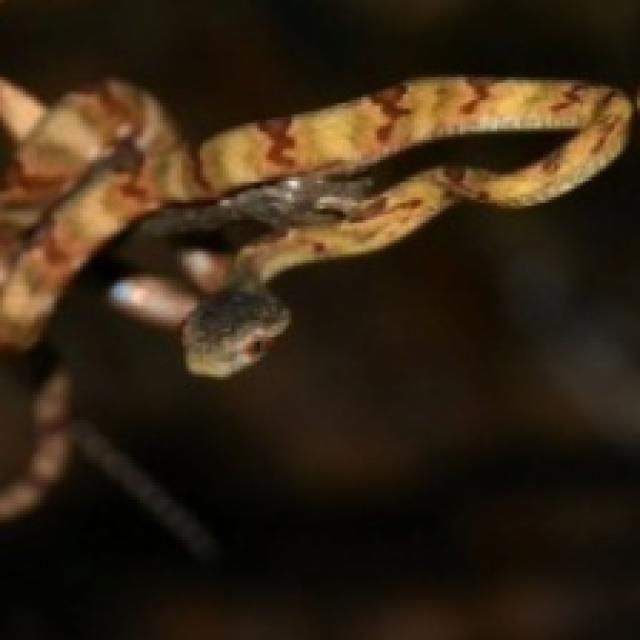dog-toothed cat snake: (0, 77, 637, 560)
